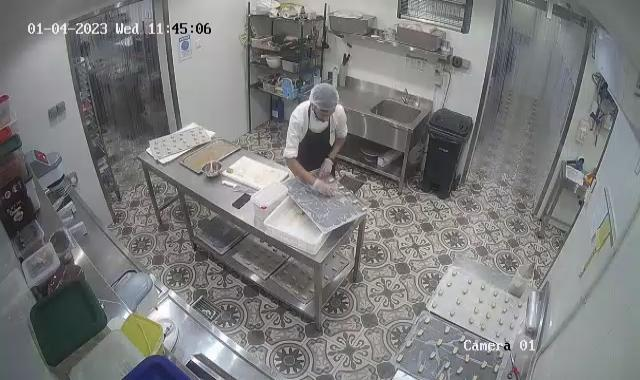hairnet: (309, 81, 339, 116)
